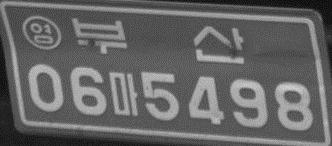0: (27, 62, 64, 113)
4: (188, 76, 223, 124)
5: (141, 71, 179, 122)
6: (68, 66, 106, 116)
8: (273, 80, 313, 131)
9: (228, 78, 268, 128)
마: (108, 71, 139, 116)
부산_D: (70, 16, 245, 64)
영: (20, 13, 61, 51)
